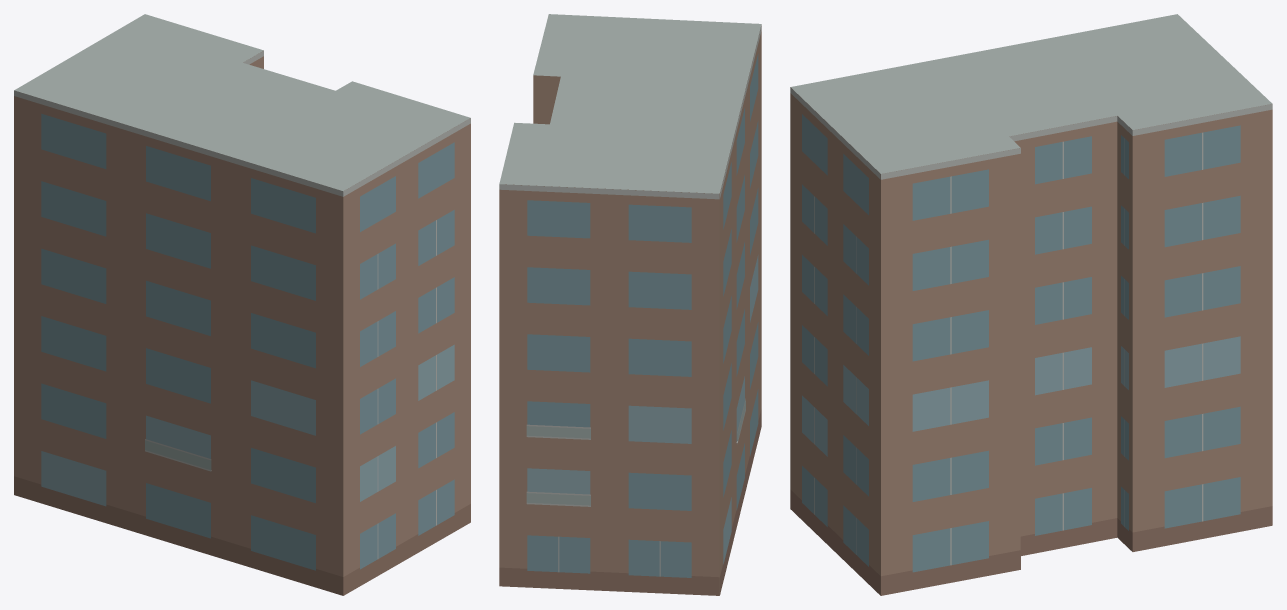
Rendered from survey-upis-32678626.glb.
3 renders of one model, left to right at view 1: azimuth 30°, elevation 25°; view 2: azimuth 150°, elevation 25°; view 3: azimuth 270°, elevation 25°, orthographic. The views are drawn at different scales.
Visible parts, largest first — view 1: survey-upis-32678626.tmp; view 2: survey-upis-32678626.tmp; view 3: survey-upis-32678626.tmp.
Part boxes in pixels (x1=…): survey-upis-32678626.tmp: x1=14, y1=14, x2=470, y2=595; survey-upis-32678626.tmp: x1=499, y1=14, x2=761, y2=595; survey-upis-32678626.tmp: x1=790, y1=14, x2=1272, y2=595.
Size of the model in its own units: 14.24 by 17.5 by 18.13.
